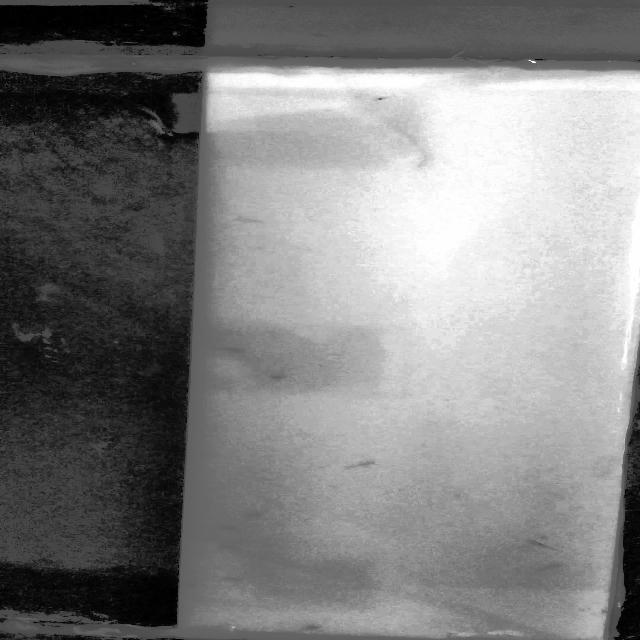shrimp: (521, 534, 555, 550), (267, 372, 299, 382), (364, 92, 396, 102), (212, 344, 243, 354), (214, 522, 242, 530), (217, 541, 244, 548), (183, 580, 195, 594), (303, 624, 322, 632)
